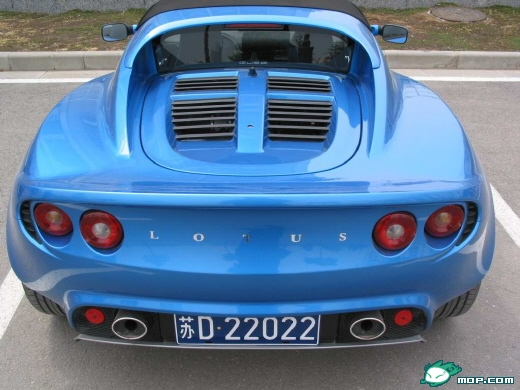plate_number: (172, 314, 323, 348)
